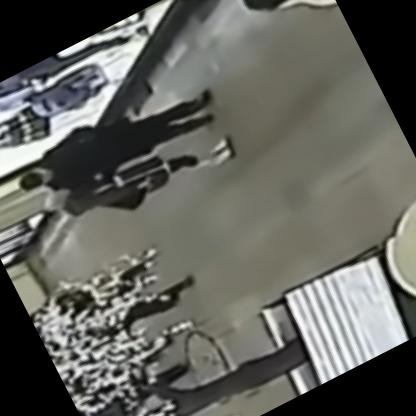Human Body: (3, 60, 230, 212), (33, 100, 244, 254), (221, 0, 339, 50)
